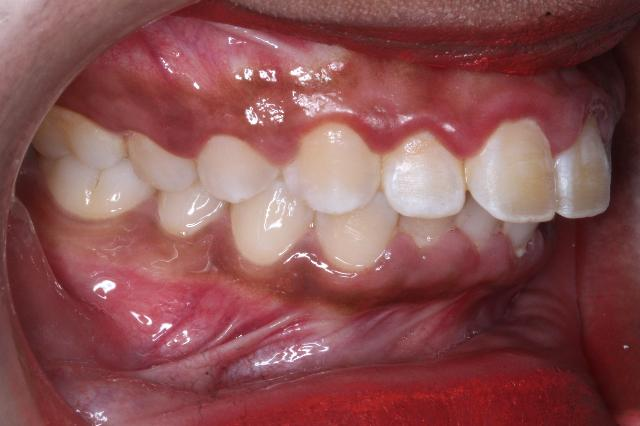canine class II 1/4: (228, 106, 402, 286)
molar class I: (28, 100, 156, 227)
